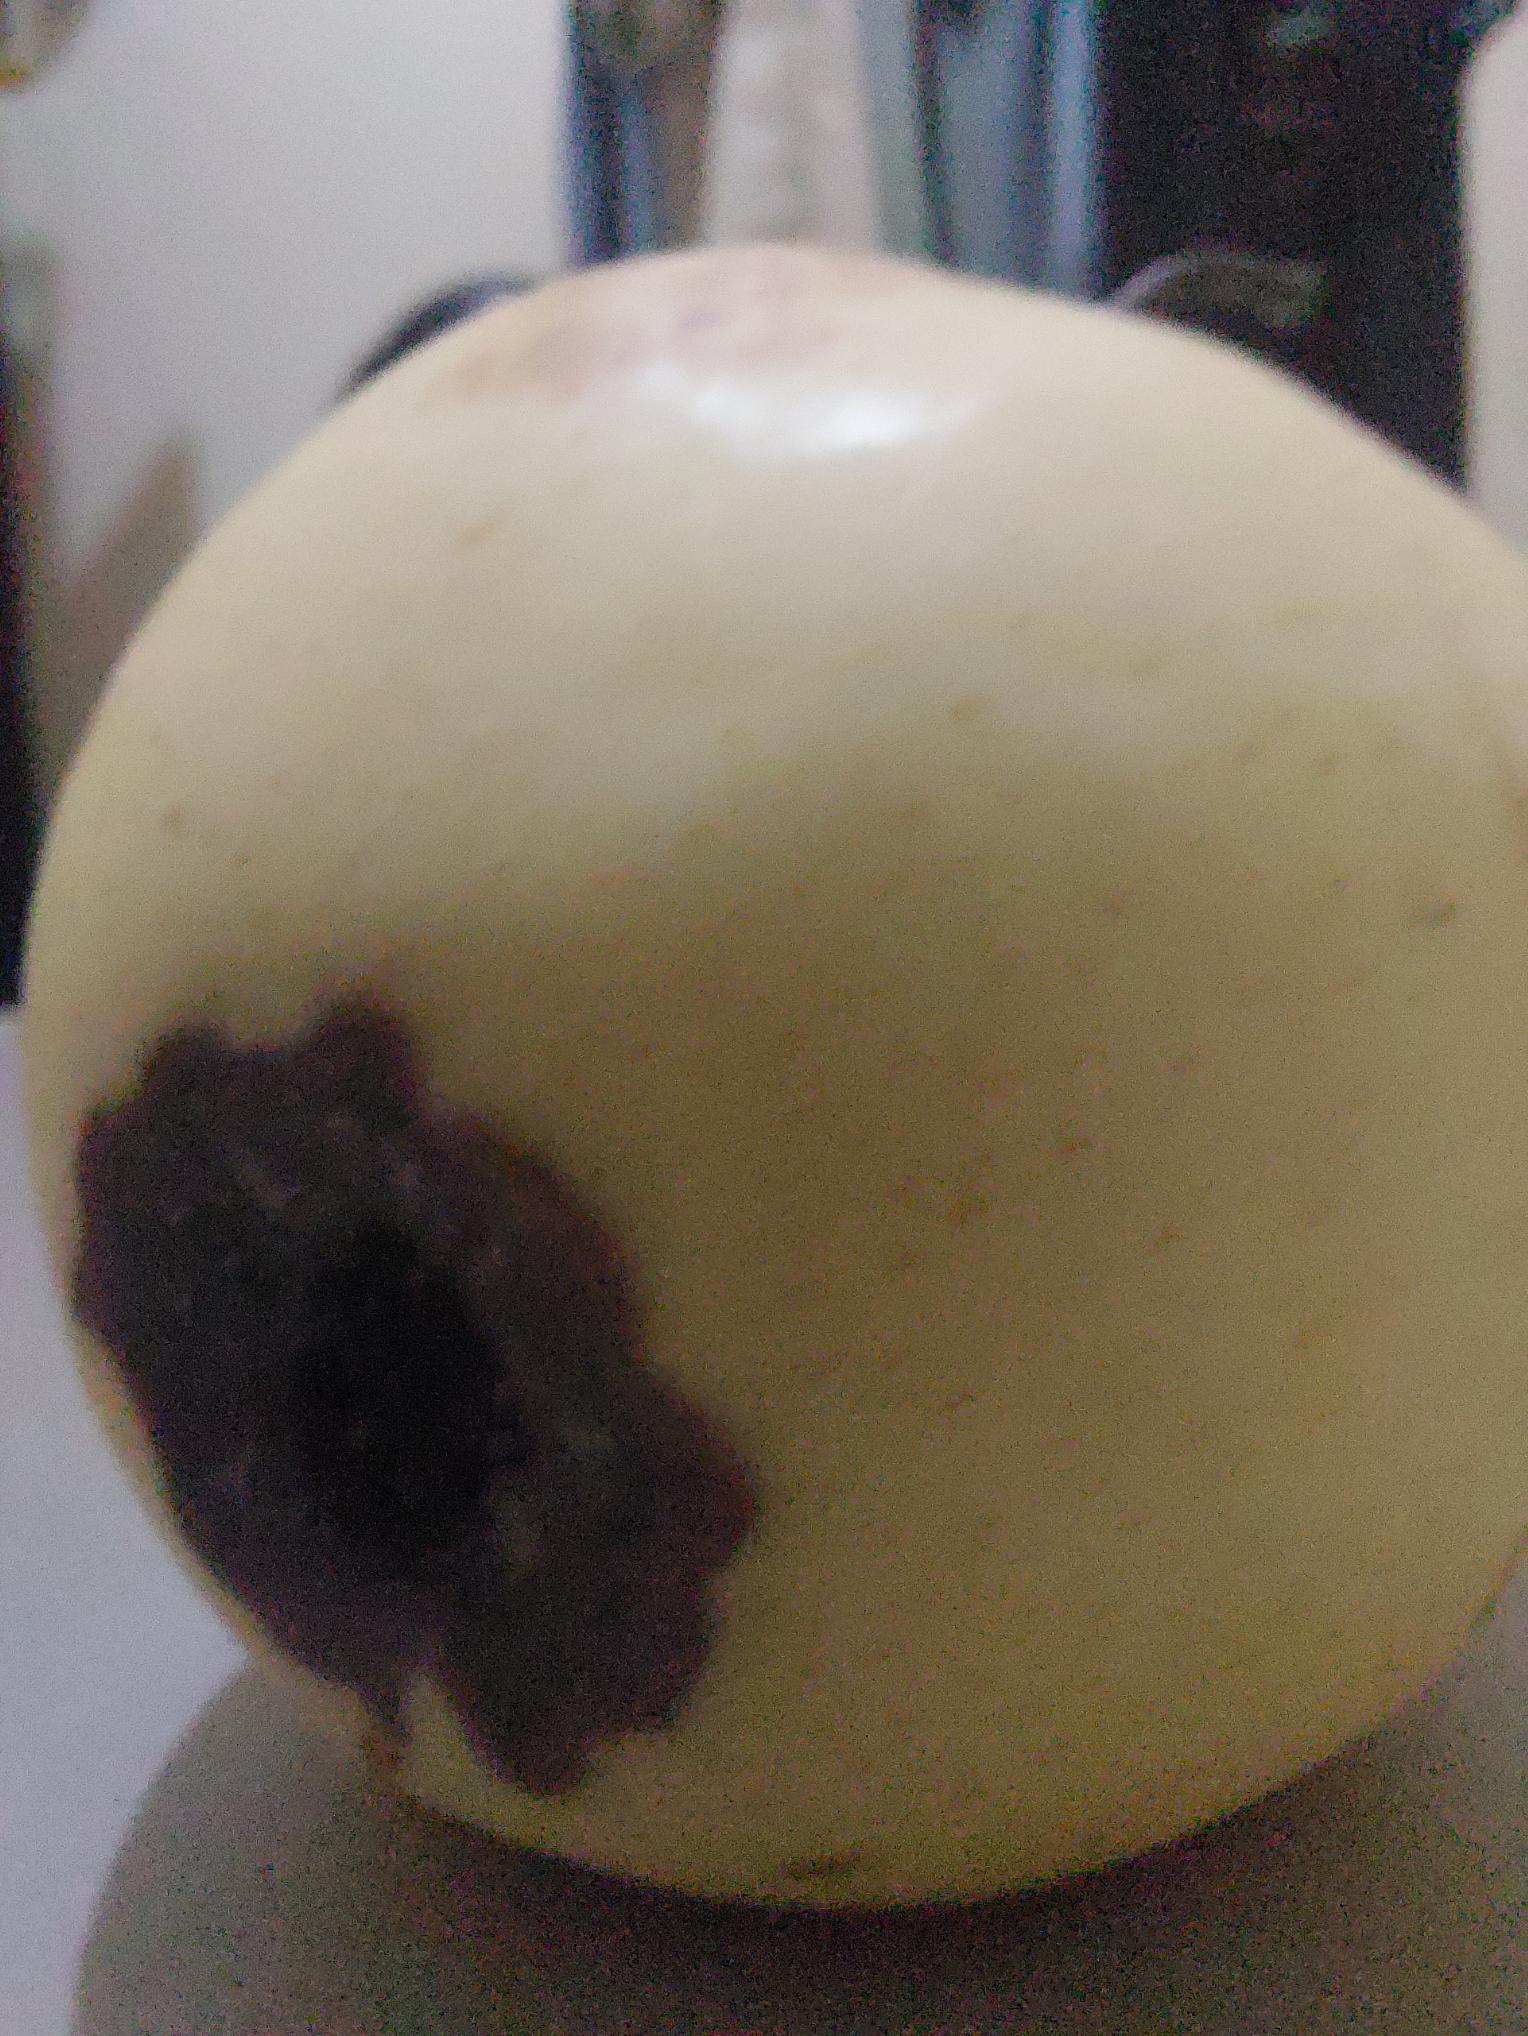Bad Pear: (16, 220, 1528, 1937)
